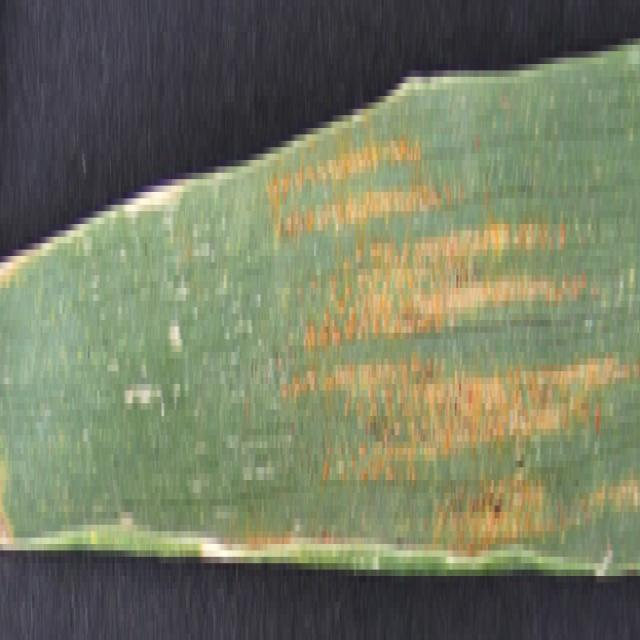leaf rust: (261, 122, 638, 563)
